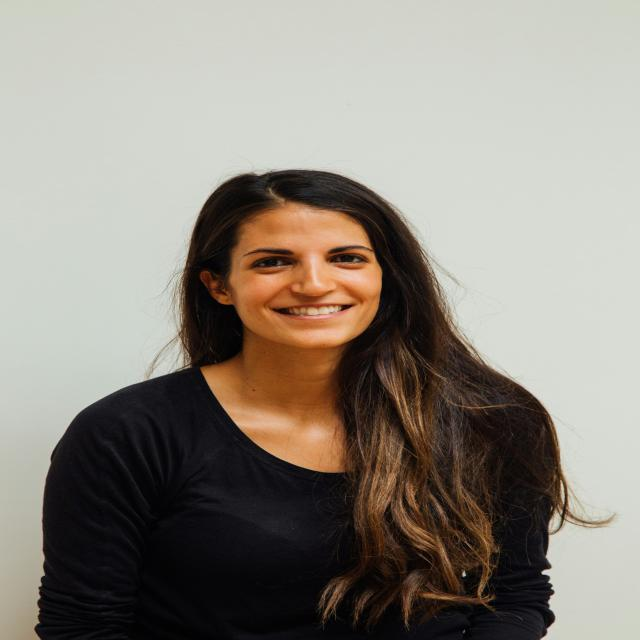human: (40, 167, 640, 640)
